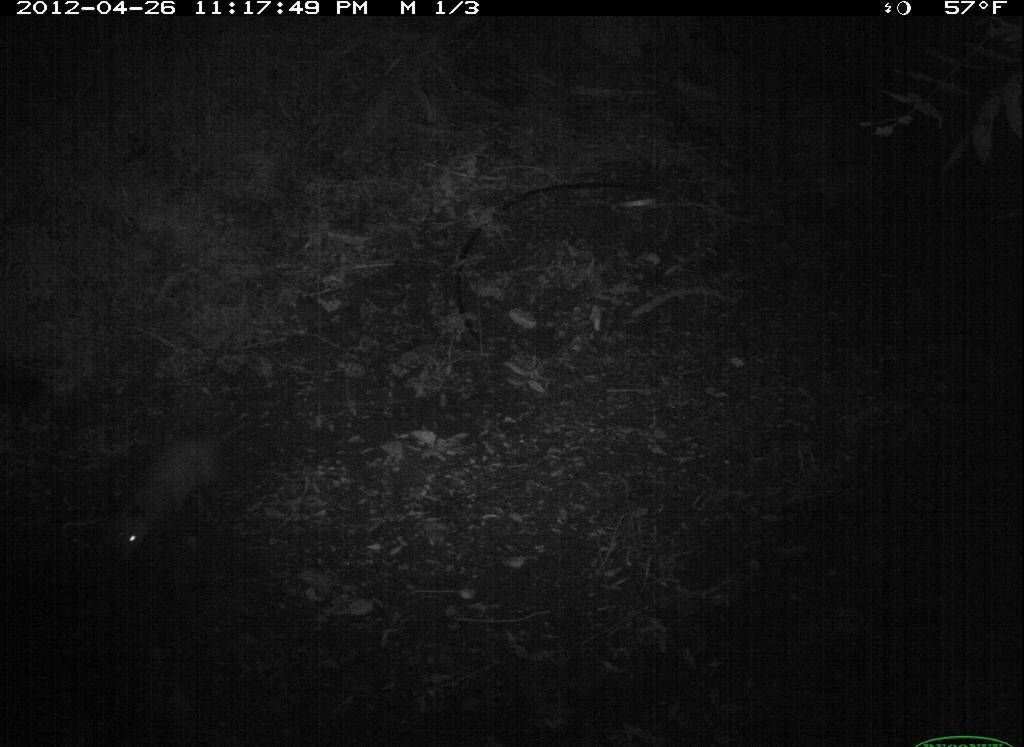opossum: (108, 414, 230, 571)
